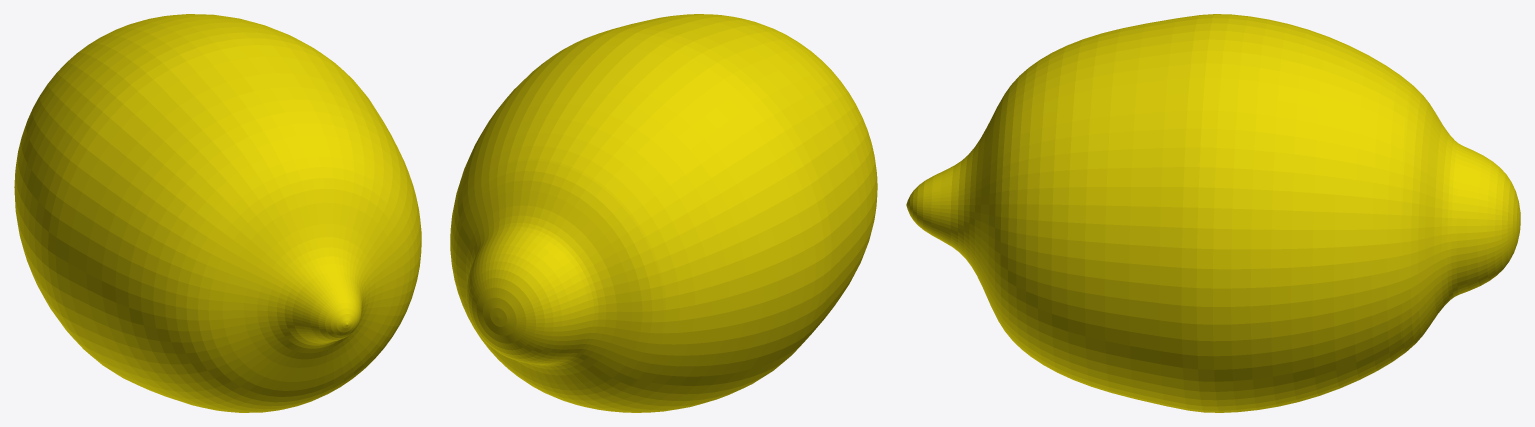
Rendered from Lemon.fbx.
3 renders of one model, left to right at view 1: azimuth 30°, elevation 25°; view 2: azimuth 150°, elevation 25°; view 3: azimuth 270°, elevation 25°, orthographic. The views are drawn at different scales.
Parts seen in each view (by area): view 1: Lemon; view 2: Lemon; view 3: Lemon.
Boxes of the visible parts, x1,y1,x2,y2 form: Lemon: [14, 14, 421, 412]; Lemon: [450, 14, 877, 412]; Lemon: [906, 14, 1520, 412].
Size of the model in its own units: 5367 by 5366 by 8267.
